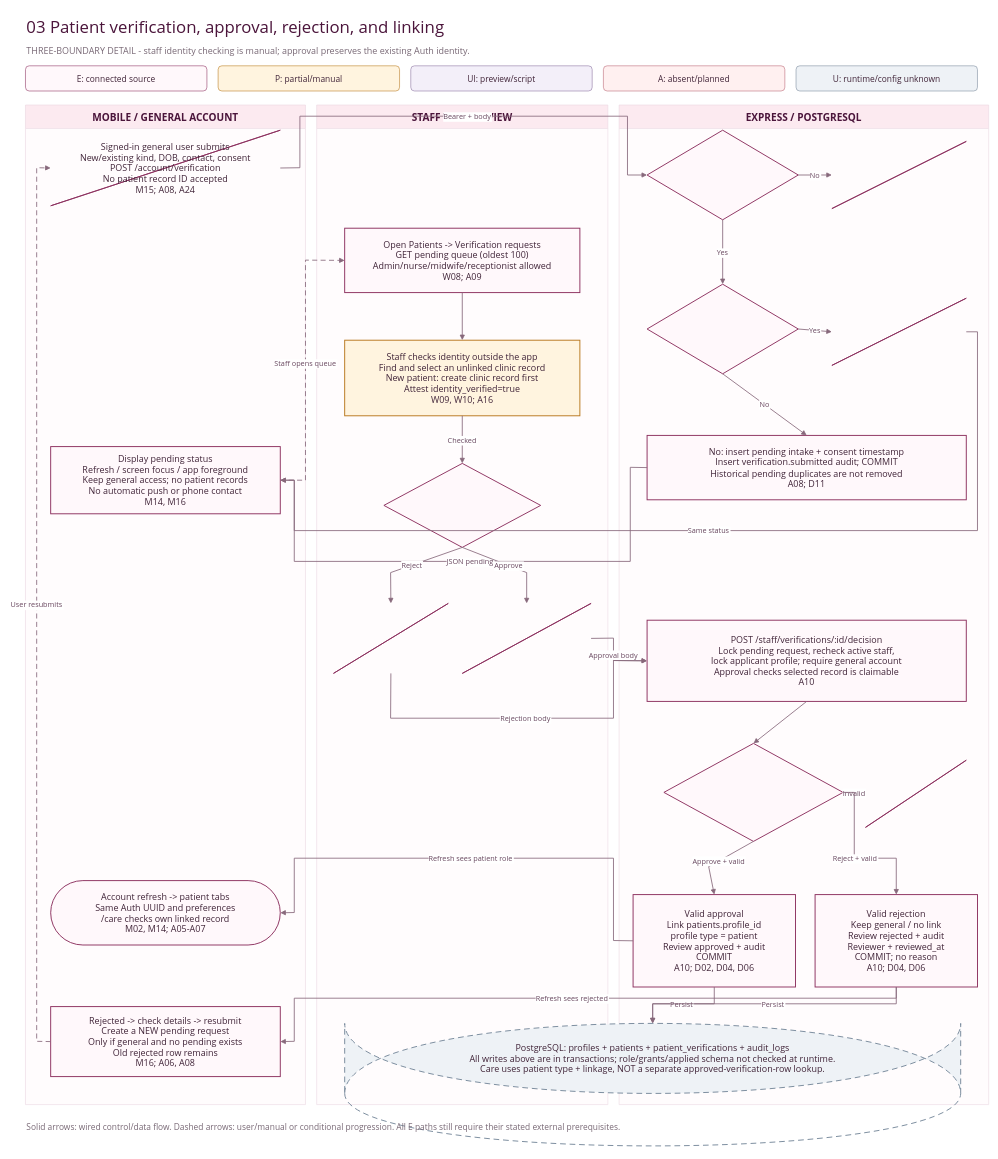
Some shapes in this 998 by 1159 pixel diagram are drawn without their labels. Each missing label, with the centre of its shape:
"Approve body: patient UUID + identity_verified:true A24" goes at [526,638].
"Invalid / conflict 403 / 409 / error ROLLBACK" goes at [916,793].
"JWT, strict input, and general profile? Lock profile A08" goes at [722,174].
"No: 400 / 401 / 403 No request / role grant Retry only after correction" goes at [899,175].
"Pending request already exists? A08" goes at [722,328].
"Reject body: status=rejected No reason field A24" goes at [391,638].
"Review checks and requested outcome? A10" goes at [753,792].
"Staff chooses approve or reject? W09" goes at [462,505].
"Yes: return pending No duplicate insert No new audit event" goes at [899,331].
